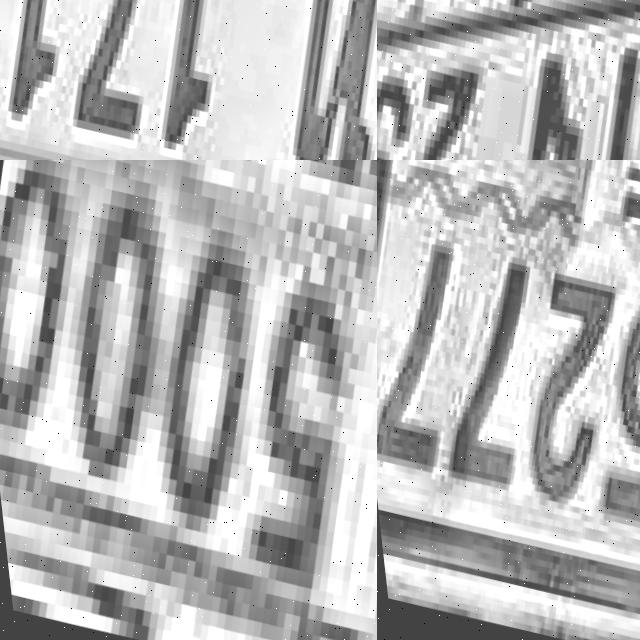license-plate: (0, 160, 377, 640), (377, 160, 640, 640), (0, 0, 377, 160), (377, 0, 640, 160)
